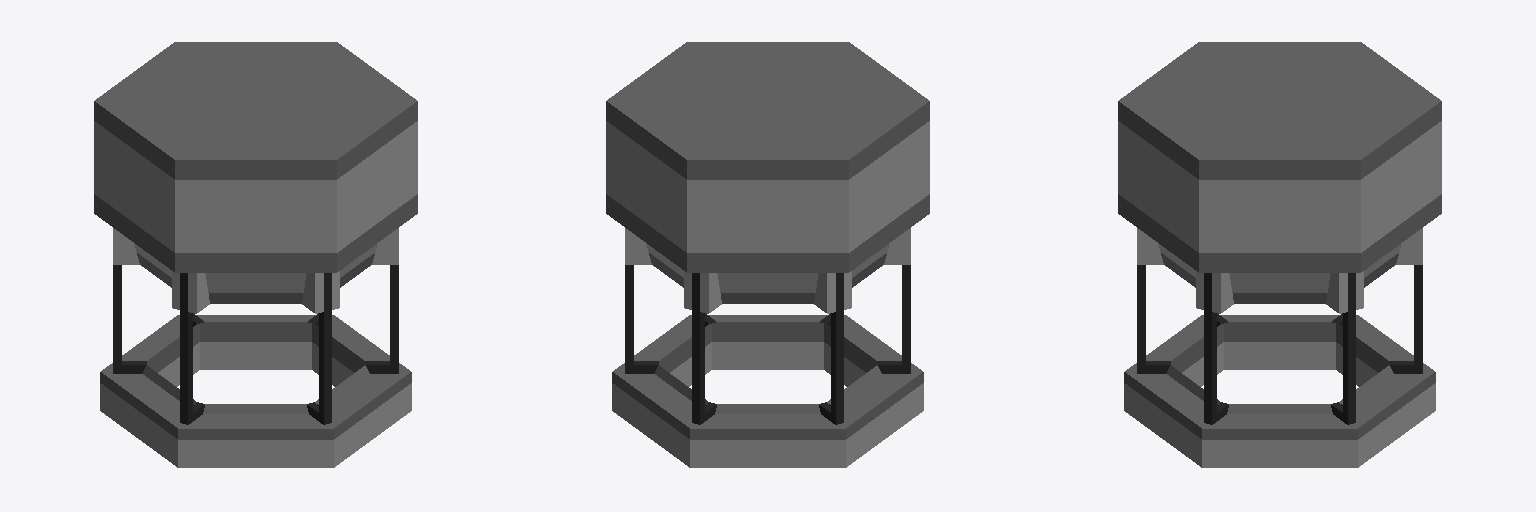
File: Dispenser.obj
The picture shows the model from 3 angles: view 1: azimuth 30°, elevation 25°; view 2: azimuth 150°, elevation 25°; view 3: azimuth 270°, elevation 25°; orthographic projection.
Visible parts, largest first — view 1: Dispenser_Circle; view 2: Dispenser_Circle; view 3: Dispenser_Circle.
Boxes of the visible parts, box(x1,y1,x2,y2) form: Dispenser_Circle: box(94, 42, 417, 467); Dispenser_Circle: box(606, 42, 929, 467); Dispenser_Circle: box(1118, 42, 1441, 467).
Size of the model in its own units: 9.01 by 11 by 10.4.